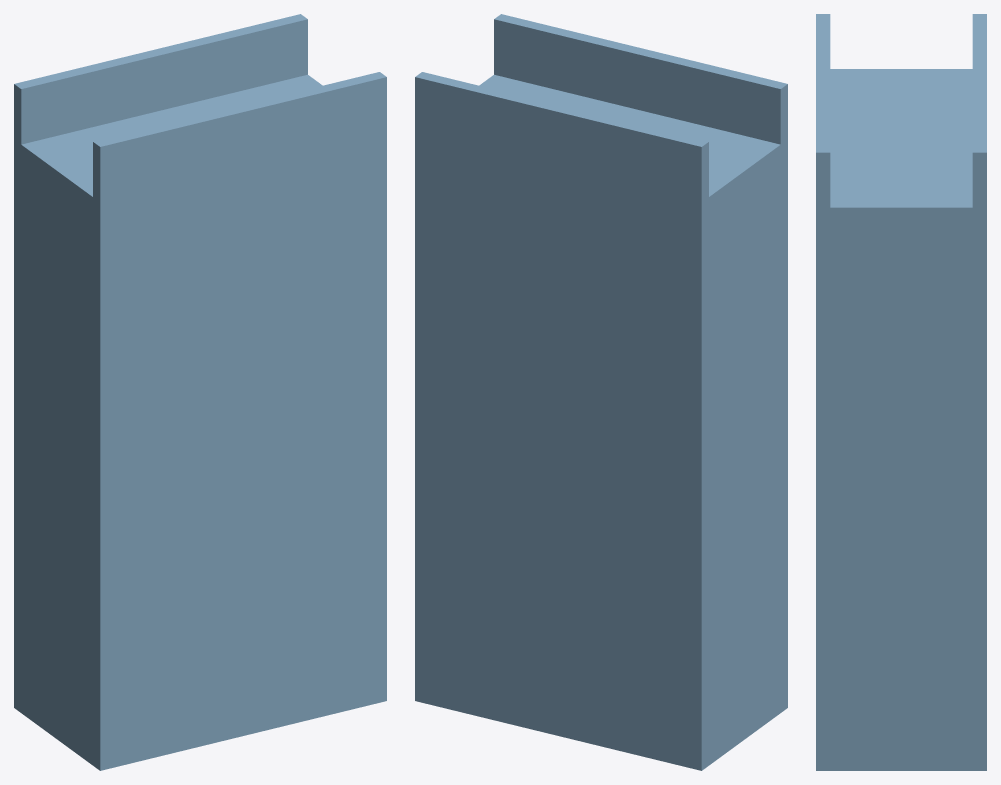
The model's file is SmallWall01.fbx.
3 renders of one model, left to right at view 1: azimuth 30°, elevation 25°; view 2: azimuth 150°, elevation 25°; view 3: azimuth 270°, elevation 25°, orthographic.
Parts seen in each view (by area): view 1: Plane; view 2: Plane; view 3: Plane.
Part boxes in pixels (bbox=[...]): Plane: bbox=[14, 14, 386, 770]; Plane: bbox=[415, 14, 787, 770]; Plane: bbox=[816, 14, 986, 770].
Size of the model in its own units: 2 by 4.16 by 1.04.
